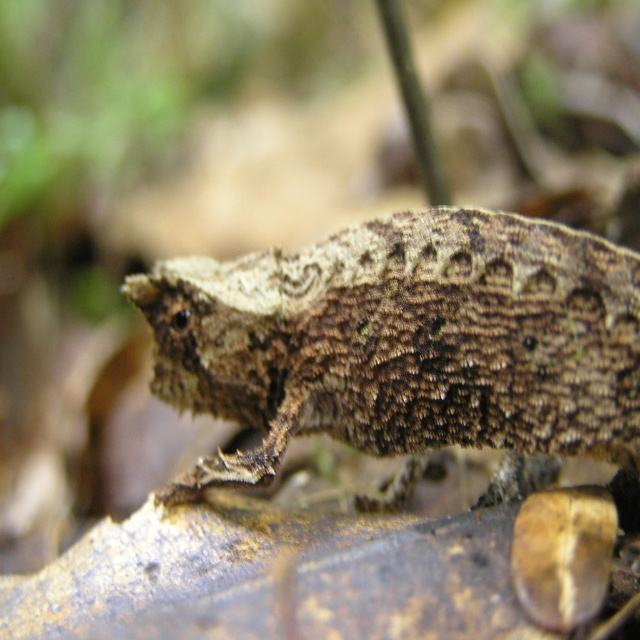Lizard: (124, 201, 637, 508)
